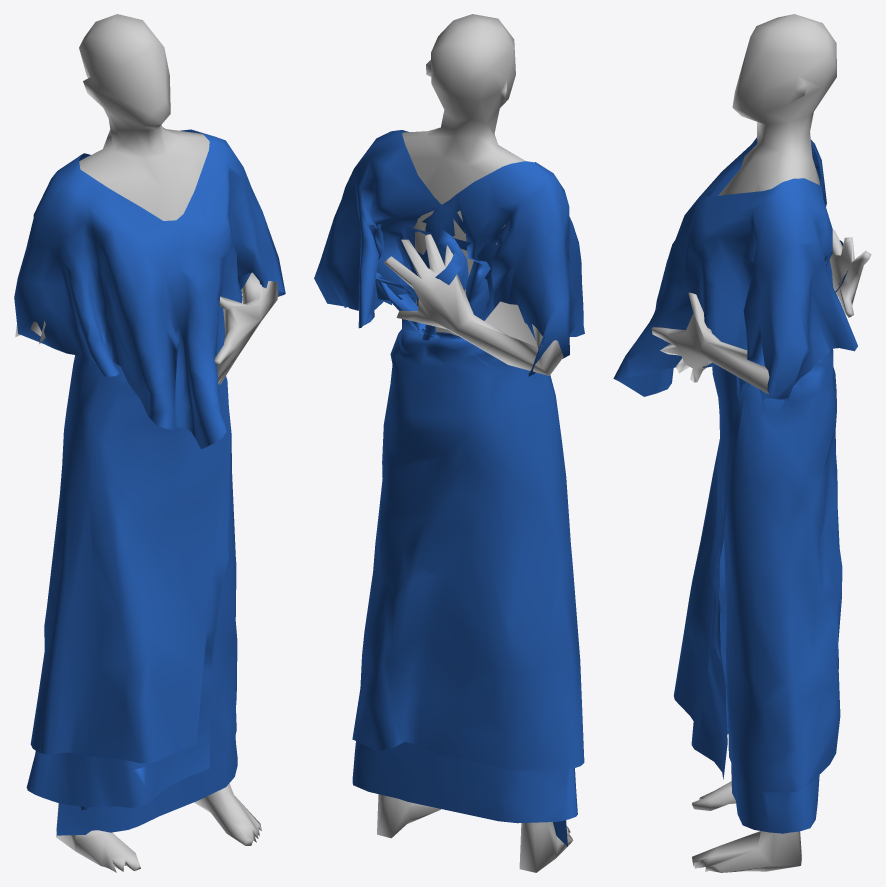
The model's file is personaA4.obj.
The picture shows the model from 3 angles, left to right: view 1: azimuth 30°, elevation 25°; view 2: azimuth 150°, elevation 25°; view 3: azimuth 270°, elevation 25°; orthographic projection. The views are drawn at different scales.
Parts seen in each view (by area): view 1: TrajeTipico, Maniqui; view 2: TrajeTipico, Maniqui; view 3: TrajeTipico, Maniqui.
Boxes of the visible parts, box(x1,y1,x2,y2) form: TrajeTipico: box(14, 129, 285, 835); Maniqui: box(15, 14, 278, 872); TrajeTipico: box(314, 130, 584, 846); Maniqui: box(377, 14, 573, 872); TrajeTipico: box(613, 137, 857, 833); Maniqui: box(651, 14, 871, 872).
Bounding box in the file's own units: 59.06 × 182 × 52.69.
